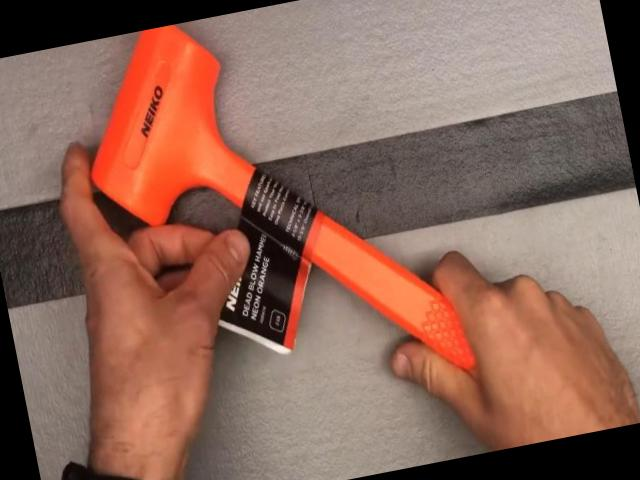hammer: (65, 0, 569, 480)
